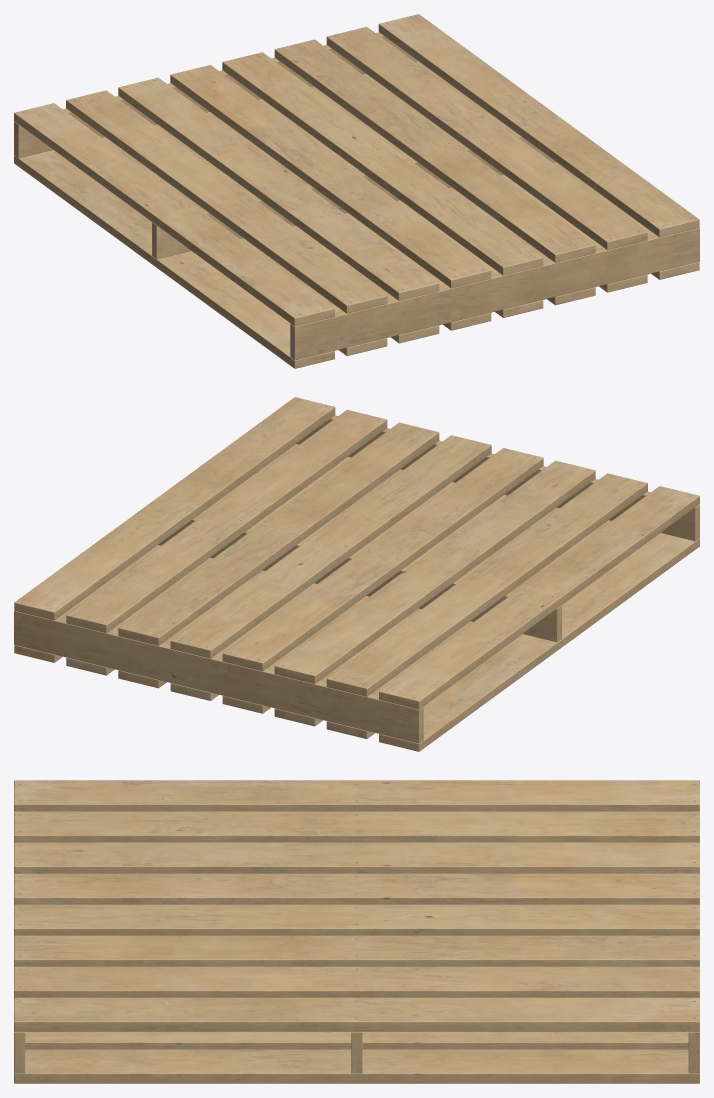
Rendered from pallet_block_a01.glb.
3 views of the same model, one above another, from view 1: azimuth 30°, elevation 25°; view 2: azimuth 150°, elevation 25°; view 3: azimuth 270°, elevation 25° (orthographic). The views are drawn at different scales.
Visible parts, largest first — view 1: sm_pallet_block_a01_mesh_00; view 2: sm_pallet_block_a01_mesh_00; view 3: sm_pallet_block_a01_mesh_00.
Boxes of the visible parts, x1,y1,x2,y2 form: sm_pallet_block_a01_mesh_00: (14, 14, 699, 368); sm_pallet_block_a01_mesh_00: (14, 397, 699, 751); sm_pallet_block_a01_mesh_00: (14, 780, 699, 1083).
Size of the model in its own units: 1 by 0.1203 by 1.2.
2 materials, 2 textured.
